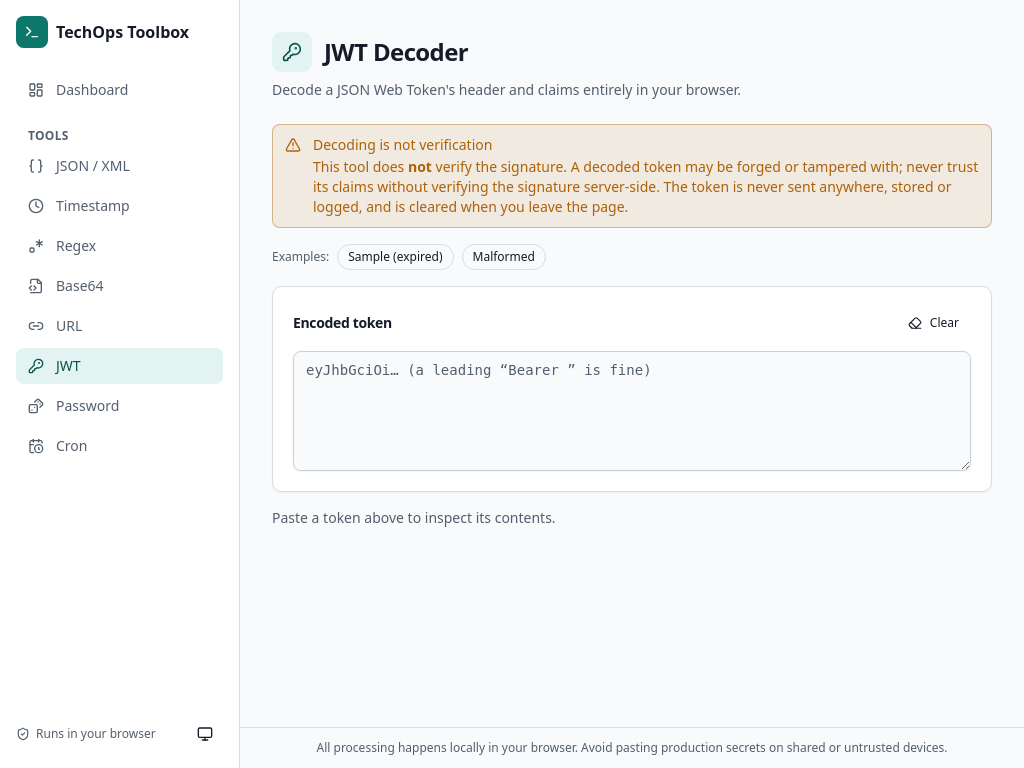
Scenario: JWT page › shows a clear error for malformed tokens
Click the button "Malformed".
click(504, 257)  # box 462,244 -> 546,270
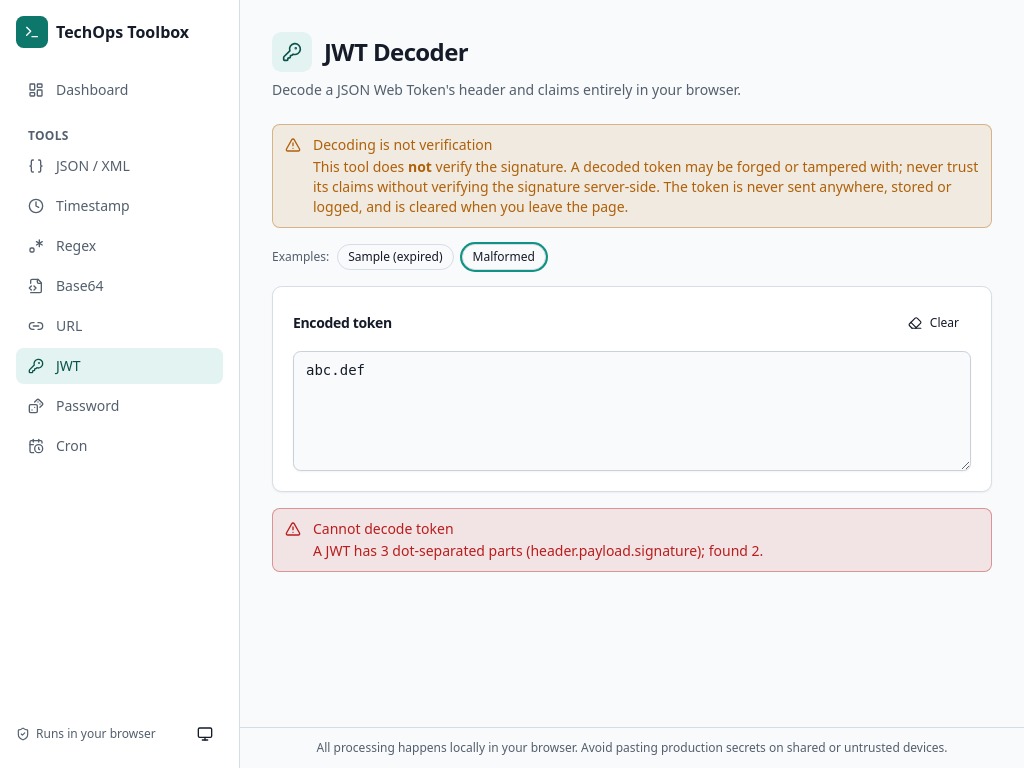
Expected: the message that starts with "Cannot decode token" shows "3 dot-separated parts", 313,541 -> 763,560
